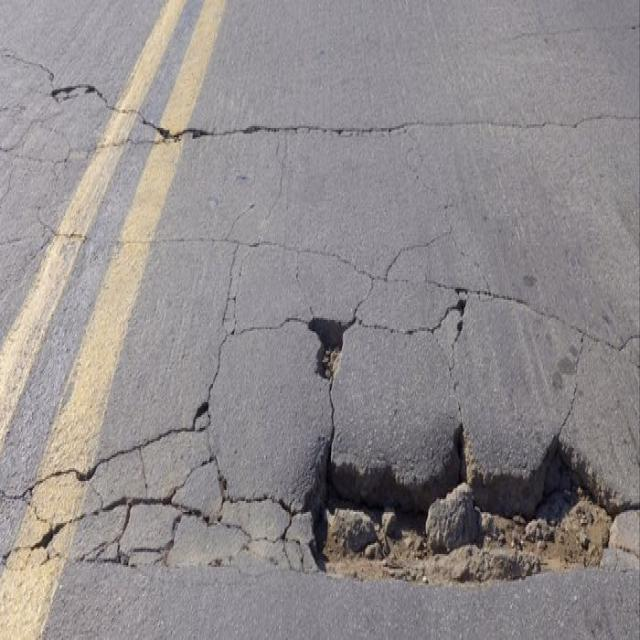pothole1: (292, 400, 640, 614), (284, 300, 366, 390)
